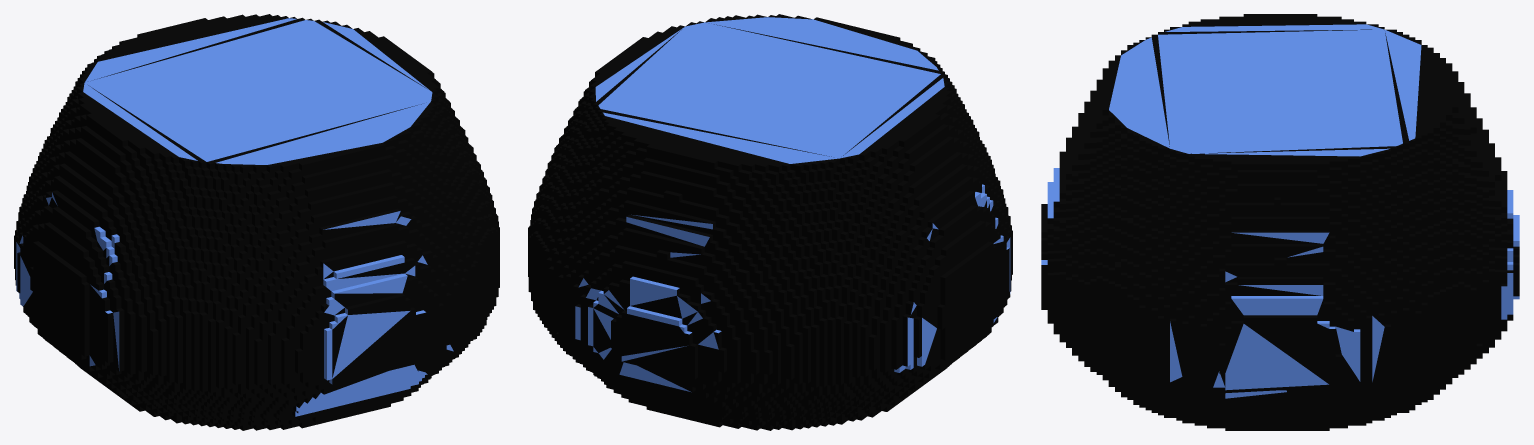
File: Level4_boss_level 1.dae
The picture shows the model from 3 angles, left to right: view 1: azimuth 30°, elevation 25°; view 2: azimuth 150°, elevation 25°; view 3: azimuth 270°, elevation 25°; orthographic projection.
Visible parts, largest first — view 1: level4_boss_level.boss_level; view 2: level4_boss_level.boss_level; view 3: level4_boss_level.boss_level.
Part boxes in pixels (bbox=[...]): level4_boss_level.boss_level: bbox=[14, 14, 499, 430]; level4_boss_level.boss_level: bbox=[528, 14, 1012, 430]; level4_boss_level.boss_level: bbox=[1041, 14, 1519, 430].
Size of the model in its own units: 7.7 by 4.9 by 7.8.
Materials: 1 (1 with a texture image).
